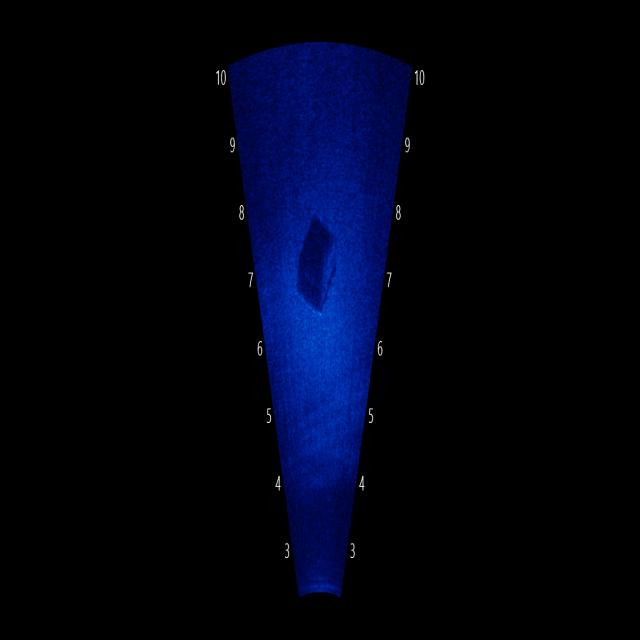square: (290, 193, 344, 349)
